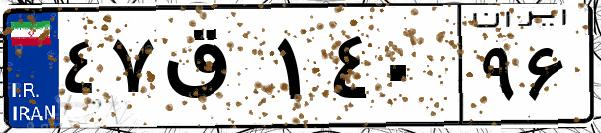0: (385, 28, 445, 110)
1: (270, 28, 330, 110)
4: (330, 28, 385, 110), (57, 26, 110, 100)
6: (525, 38, 570, 115)
7: (110, 28, 158, 98)
9: (475, 38, 525, 113)
ق: (158, 20, 270, 120)
